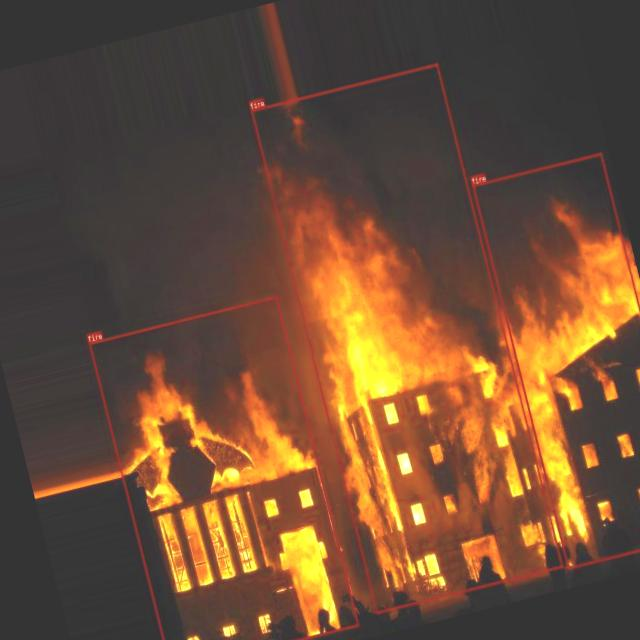fire: (250, 62, 563, 613), (88, 295, 358, 640), (471, 151, 640, 569)
